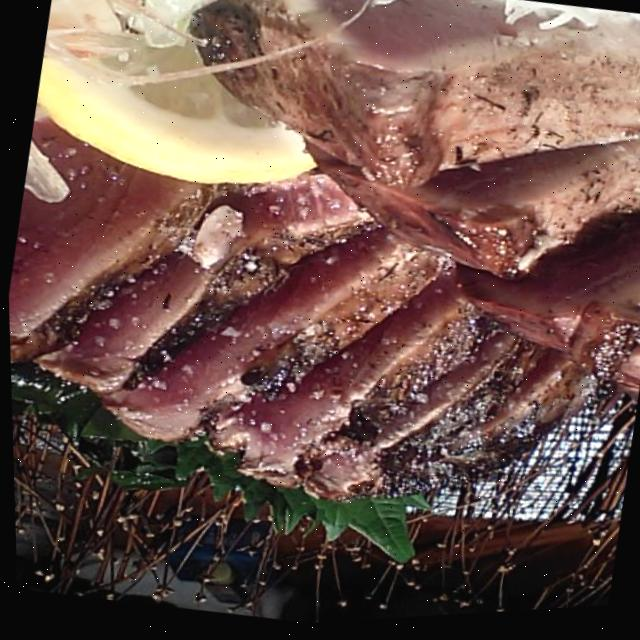熟制海鲜: (6, 240, 565, 640)
